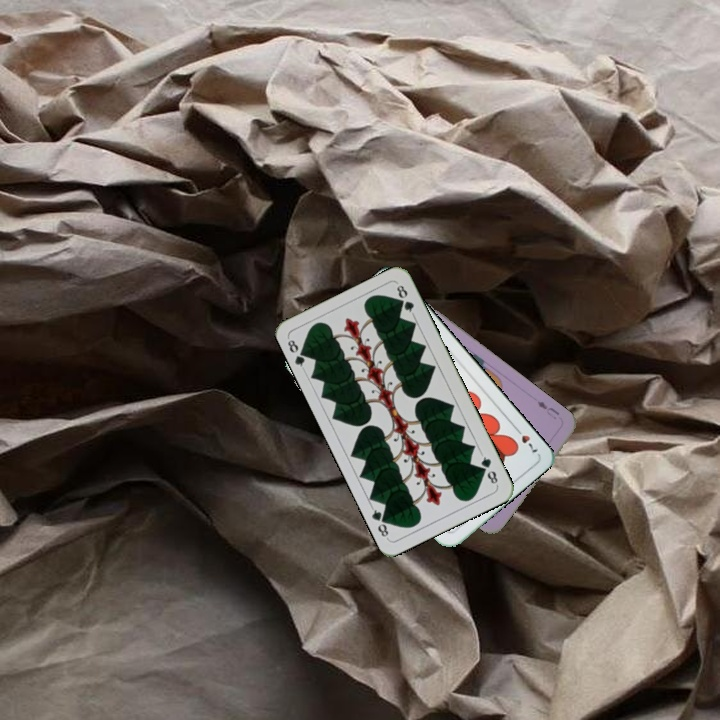EU: (533, 397, 562, 422)
G8: (283, 335, 311, 373), (477, 450, 501, 488)
H7: (510, 422, 541, 455)
